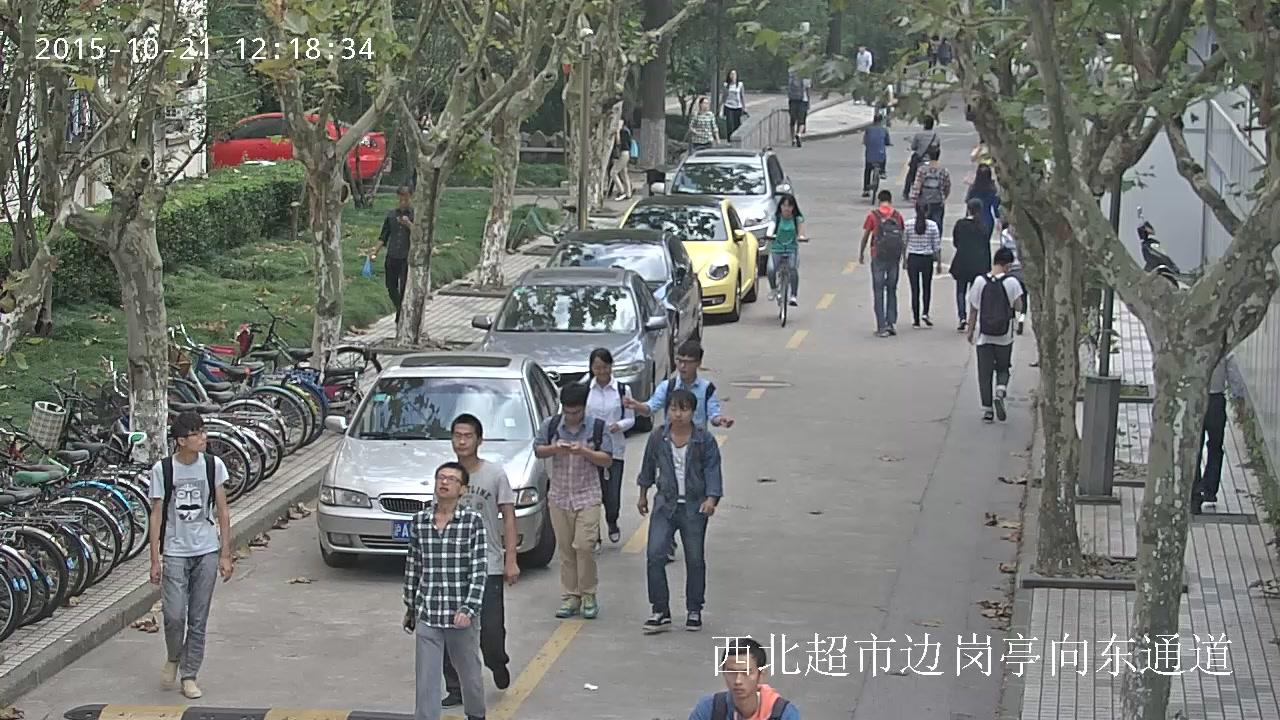face: (723, 653, 759, 696), (433, 468, 460, 497), (452, 422, 475, 455), (668, 398, 692, 425), (186, 426, 207, 453), (591, 356, 612, 380), (677, 354, 695, 378), (562, 404, 583, 424), (398, 194, 411, 209), (781, 199, 793, 215), (700, 98, 709, 110), (728, 69, 737, 80), (859, 46, 865, 52)
